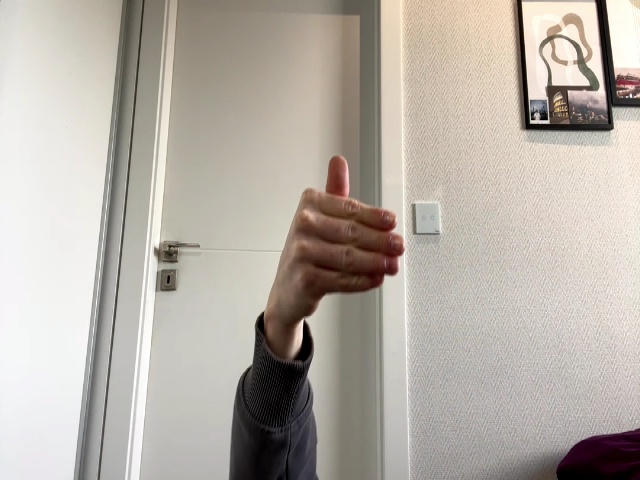M: (281, 157, 405, 329)
